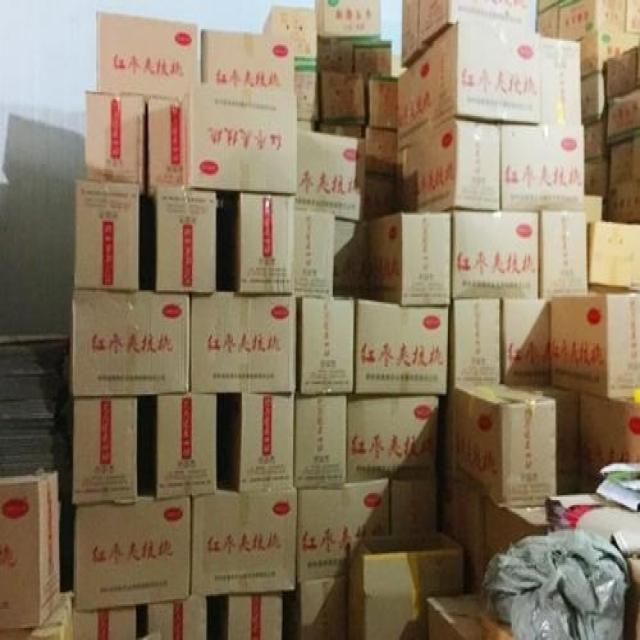box: (398, 19, 541, 150), (74, 492, 191, 611), (183, 82, 297, 195), (348, 529, 462, 640), (72, 288, 189, 396), (456, 382, 557, 507), (191, 490, 297, 597), (191, 292, 297, 393), (0, 471, 60, 631), (398, 119, 500, 213), (297, 480, 389, 582), (552, 294, 640, 398), (97, 12, 201, 99), (353, 299, 448, 394), (347, 396, 438, 485), (452, 210, 539, 299), (370, 212, 451, 305), (500, 123, 584, 210), (73, 179, 138, 290), (72, 396, 138, 505), (156, 393, 218, 500), (296, 131, 366, 222), (156, 188, 216, 292), (86, 90, 145, 193), (234, 394, 294, 492), (201, 29, 294, 92), (237, 193, 294, 294), (297, 297, 355, 394), (293, 396, 347, 490), (448, 300, 500, 387), (539, 212, 589, 299), (502, 300, 550, 382), (0, 591, 73, 640), (589, 222, 640, 292), (541, 36, 582, 123), (294, 575, 348, 640), (147, 97, 183, 193), (296, 210, 335, 295), (262, 7, 317, 65), (333, 220, 370, 299), (224, 591, 283, 640), (147, 597, 207, 640), (316, 0, 381, 39), (389, 480, 435, 532), (321, 72, 365, 123), (73, 608, 136, 640), (605, 46, 640, 101), (605, 92, 640, 147), (353, 39, 392, 87), (608, 135, 640, 186), (369, 77, 397, 128), (608, 183, 640, 224), (296, 67, 317, 119)
